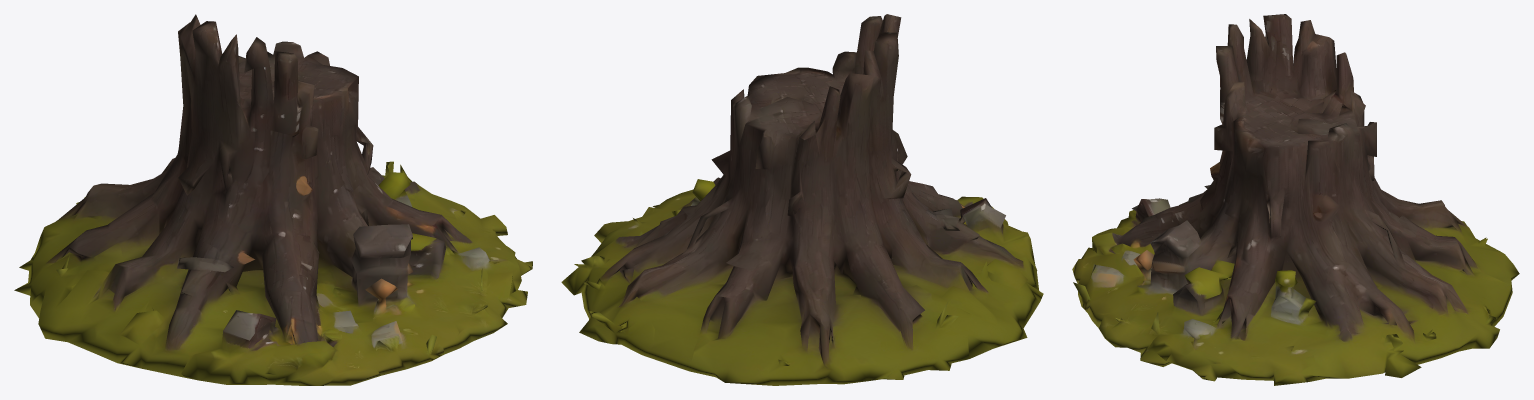
The model's file is tripo_stump.glb.
The picture shows the model from 3 angles, left to right: view 1: azimuth 30°, elevation 25°; view 2: azimuth 150°, elevation 25°; view 3: azimuth 270°, elevation 25°; orthographic projection. The views are drawn at different scales.
Visible parts, largest first — view 1: tripo_node_6cdc0cb5-dfc6-416f-995c-63931e4bf18c; view 2: tripo_node_6cdc0cb5-dfc6-416f-995c-63931e4bf18c; view 3: tripo_node_6cdc0cb5-dfc6-416f-995c-63931e4bf18c.
Boxes of the visible parts, x1,y1,x2,y2 form: tripo_node_6cdc0cb5-dfc6-416f-995c-63931e4bf18c: (14,14,532,385); tripo_node_6cdc0cb5-dfc6-416f-995c-63931e4bf18c: (561,14,1043,385); tripo_node_6cdc0cb5-dfc6-416f-995c-63931e4bf18c: (1072,14,1519,385).
Bounding box in the file's own units: 1 × 0.5933 × 0.9739.
Materials: 1 (1 with a texture image).
